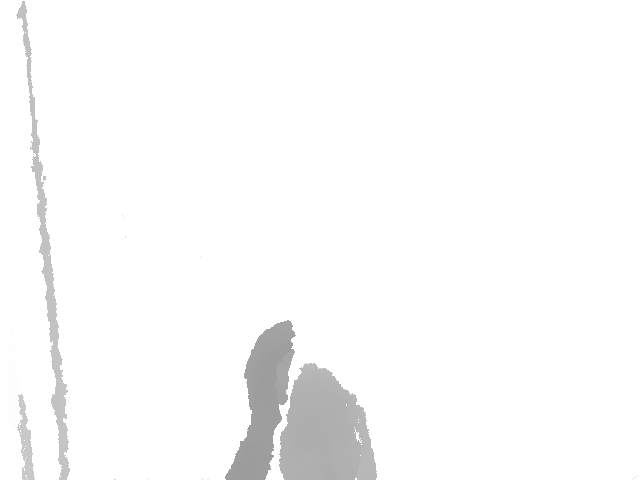hand: (242, 320, 296, 416)
head: (279, 364, 361, 480)
person: (224, 320, 379, 480)
